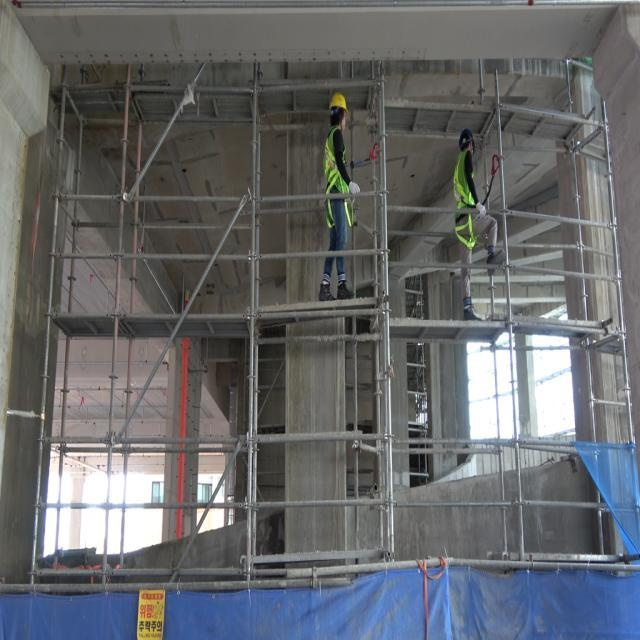Arnes_seguridad: (325, 126, 355, 228), (455, 151, 479, 250)
